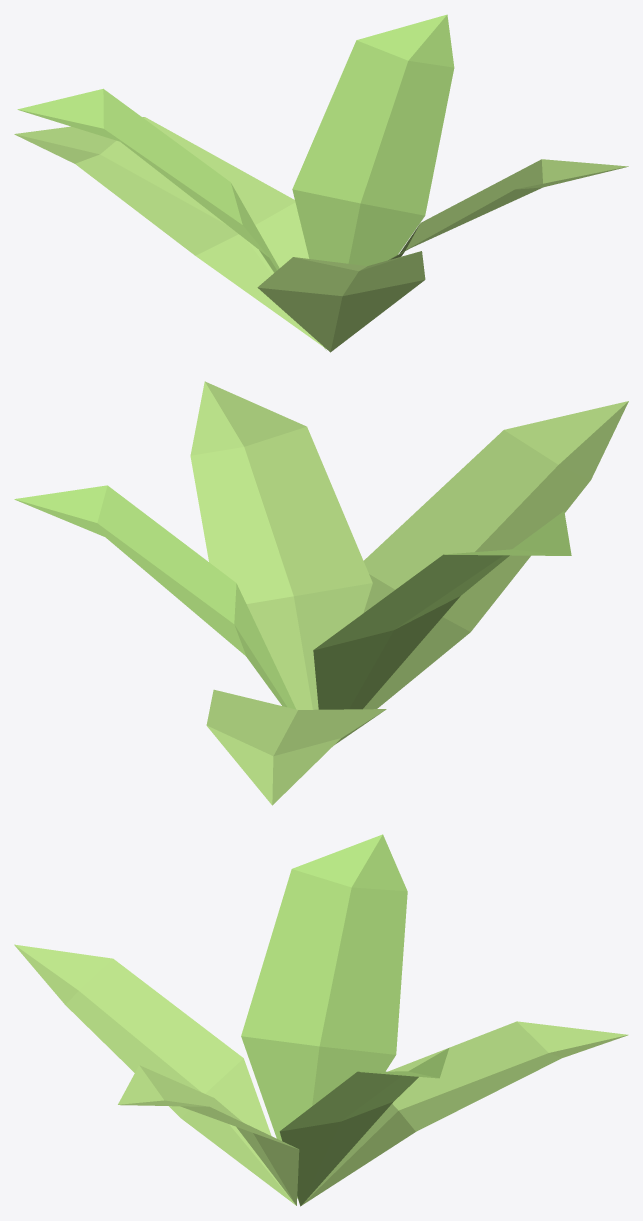
The model's file is Plant_k_TwoS_05.fbx.
3 views of the same model, one above another, from view 1: azimuth 30°, elevation 25°; view 2: azimuth 150°, elevation 25°; view 3: azimuth 270°, elevation 25° (orthographic). The views are drawn at different scales.
Visible parts, largest first — view 1: Plant_k_TwoS_05; view 2: Plant_k_TwoS_05; view 3: Plant_k_TwoS_05.
Part boxes in pixels (x1,y1,x2,y2): Plant_k_TwoS_05: (14,14,628,352); Plant_k_TwoS_05: (14,381,628,805); Plant_k_TwoS_05: (14,834,628,1206).
Bounding box in the file's own units: 0.3771 × 0.2109 × 0.4664.
